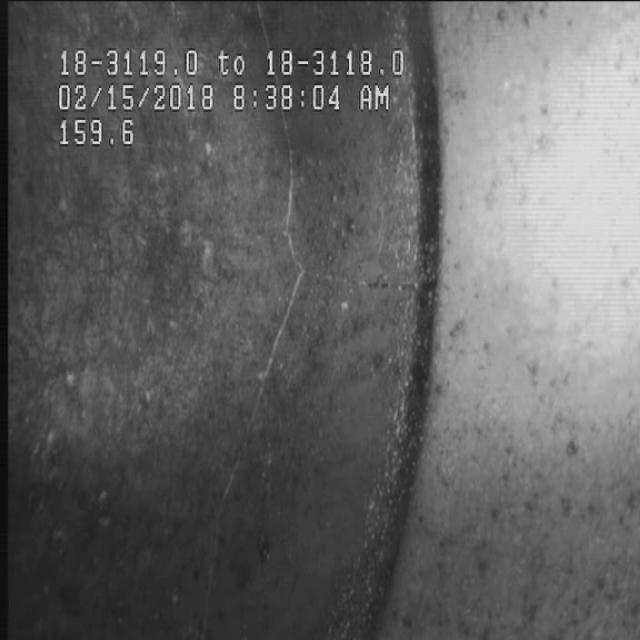Crack: (223, 174, 368, 530)
